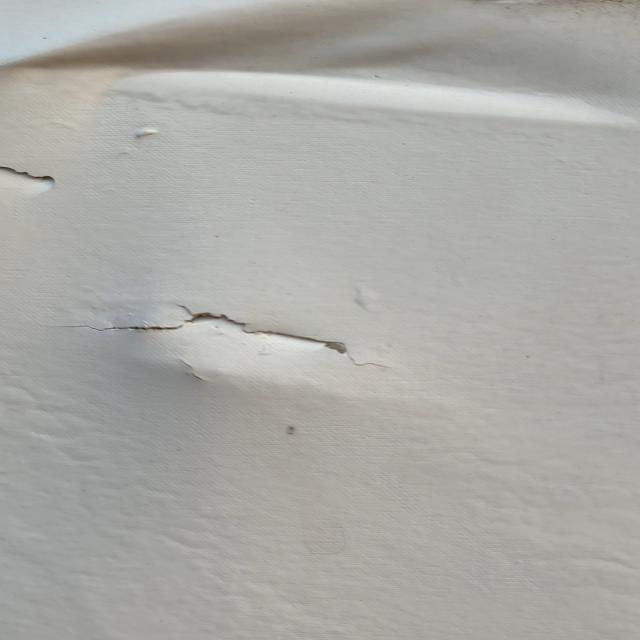Dents or Deformation: (1, 1, 640, 139)
Scratches: (51, 286, 393, 373), (1, 161, 80, 209)
